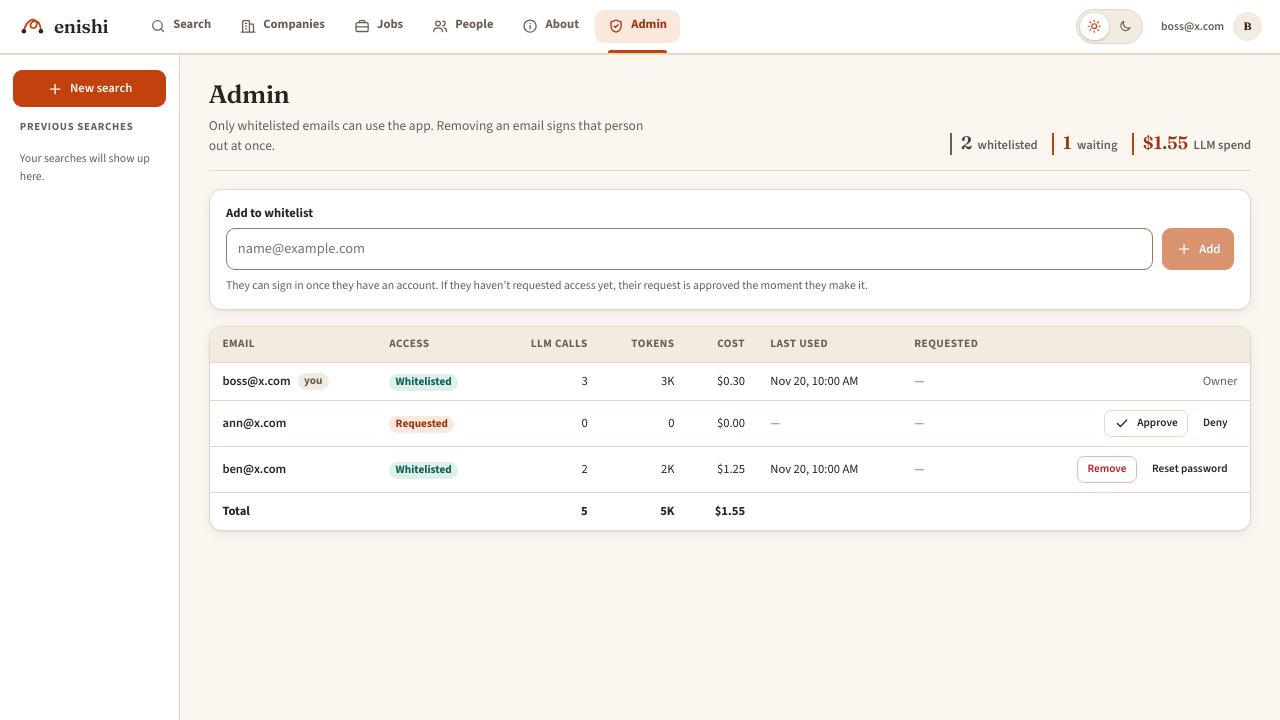
Test case: Admin tab › resets a password and shows the temporary one once
What coordinates should you click on to do the following:
click the button "Reset password"
I would click on:
 (1190, 470)
Its box is [1142,456,1238,483].
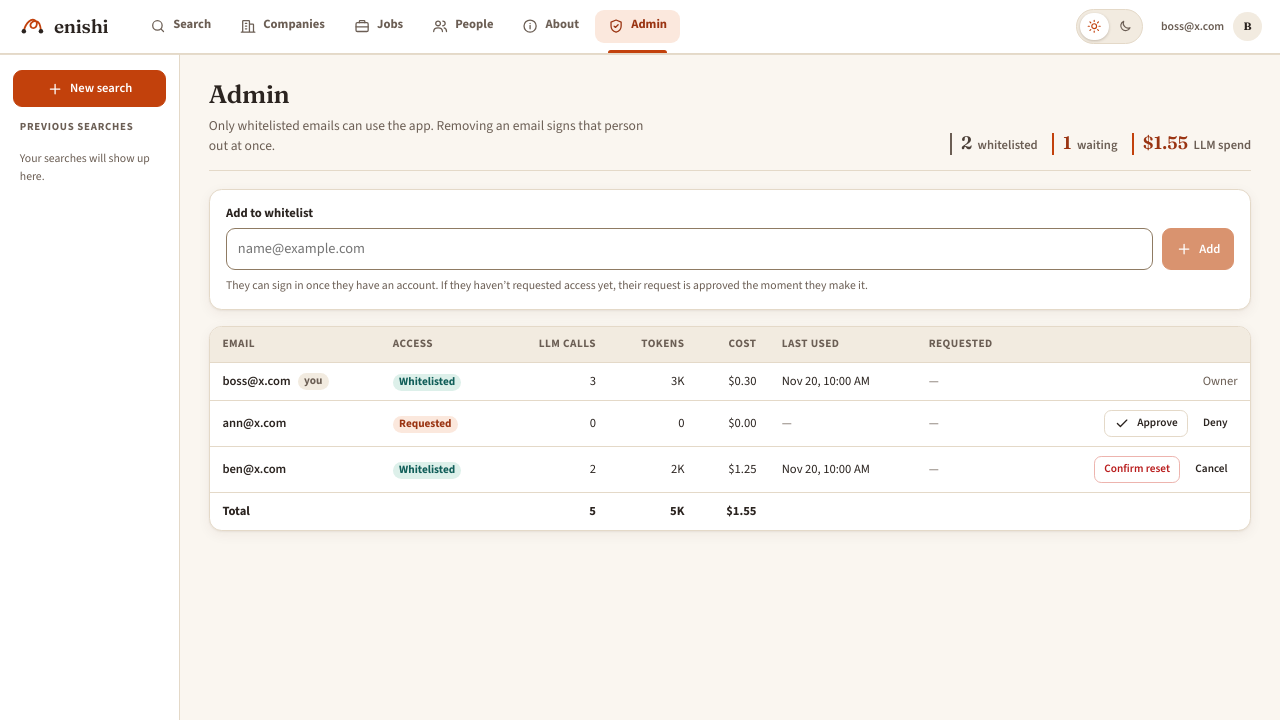
What coordinates should you click on to do the following:
click the button "Confirm reset"
I would click on:
 (1137, 470)
Its box is [1094,456,1180,483].
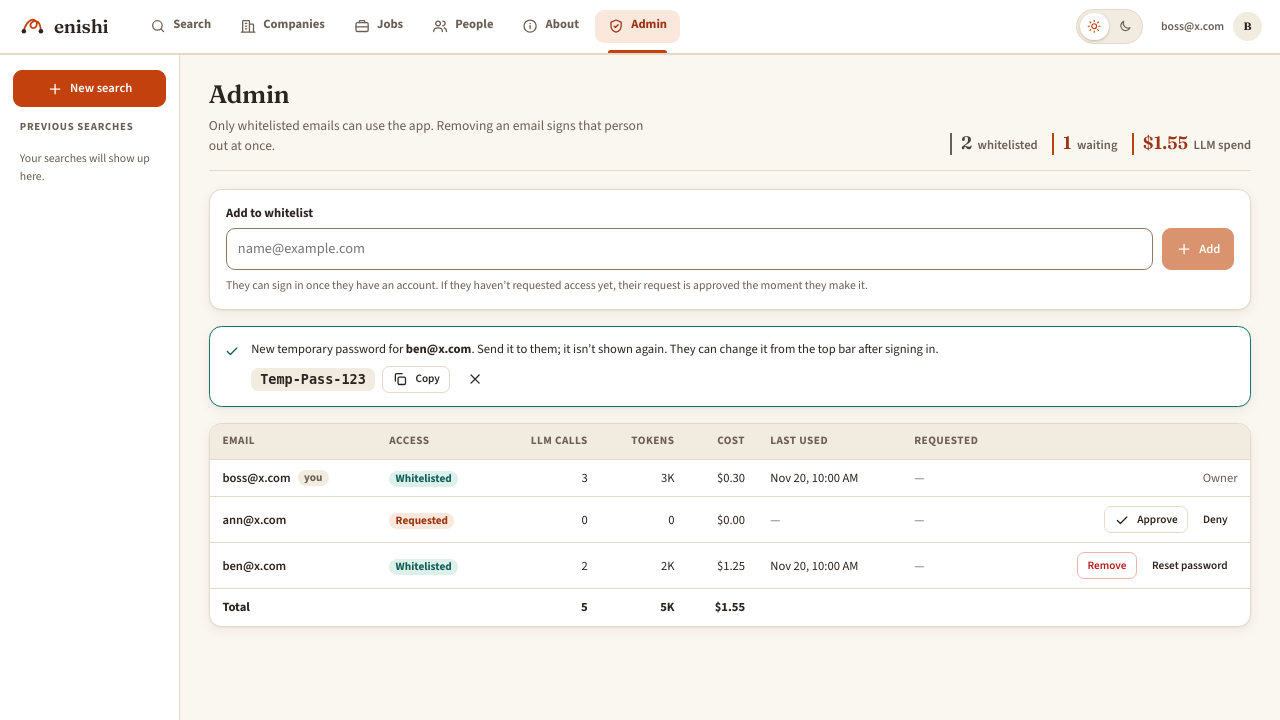
Expected: the text "Temp-Pass-123" is shown, [251,368,375,391]
Expected: the text "New temporary password for" shows "ben@x.com", [406,340,471,357]
What coordinates should you click on to do the following:
click the button named "Dismiss"
I would click on:
 (475, 379)
Its box is [457,366,493,393].
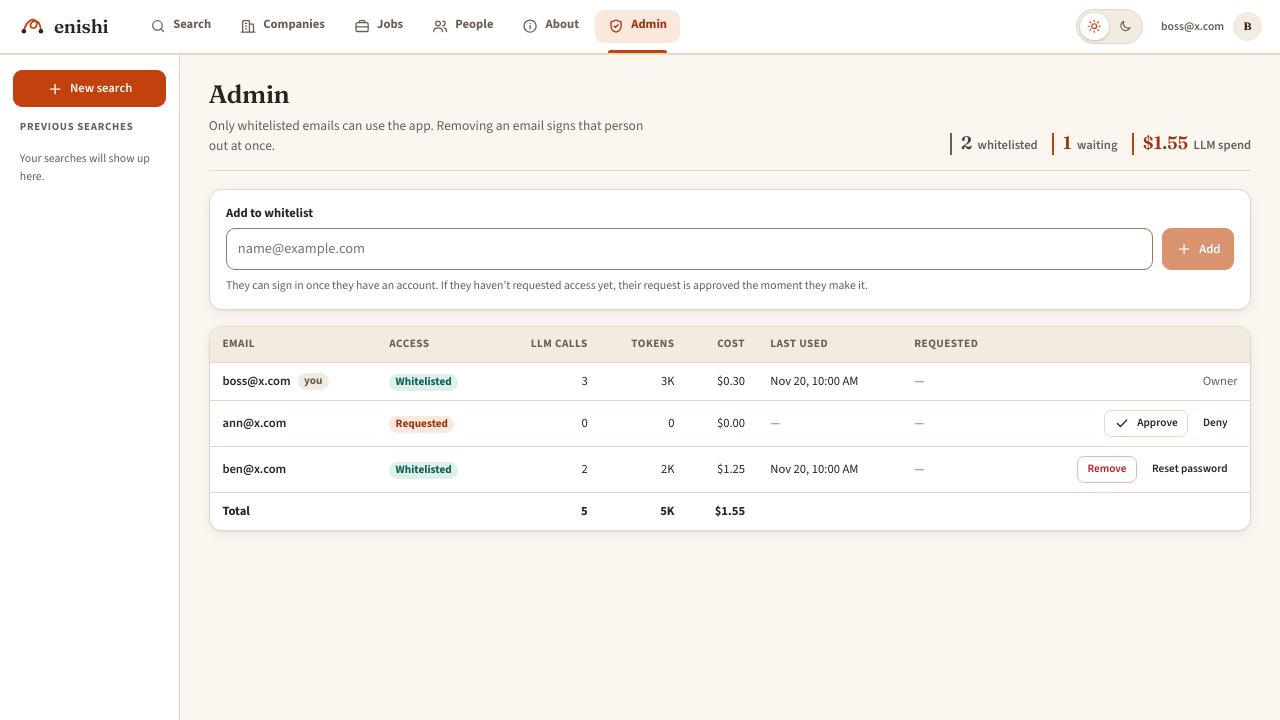
Expected: the text "Temp-Pass-123" is gone
